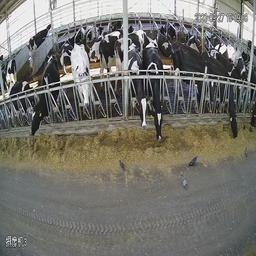cow: (202, 51, 240, 139), (71, 44, 112, 108), (128, 43, 150, 128), (147, 42, 166, 140), (38, 56, 60, 122), (60, 31, 80, 68), (29, 26, 51, 54), (2, 57, 16, 94), (93, 25, 106, 57), (185, 30, 198, 52), (164, 22, 179, 39), (86, 23, 97, 41)
